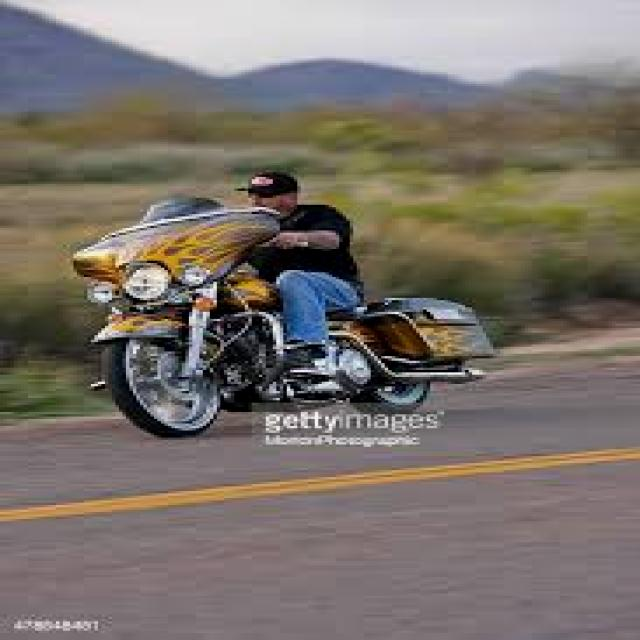MOTORCYCLE: (77, 238, 497, 418)
